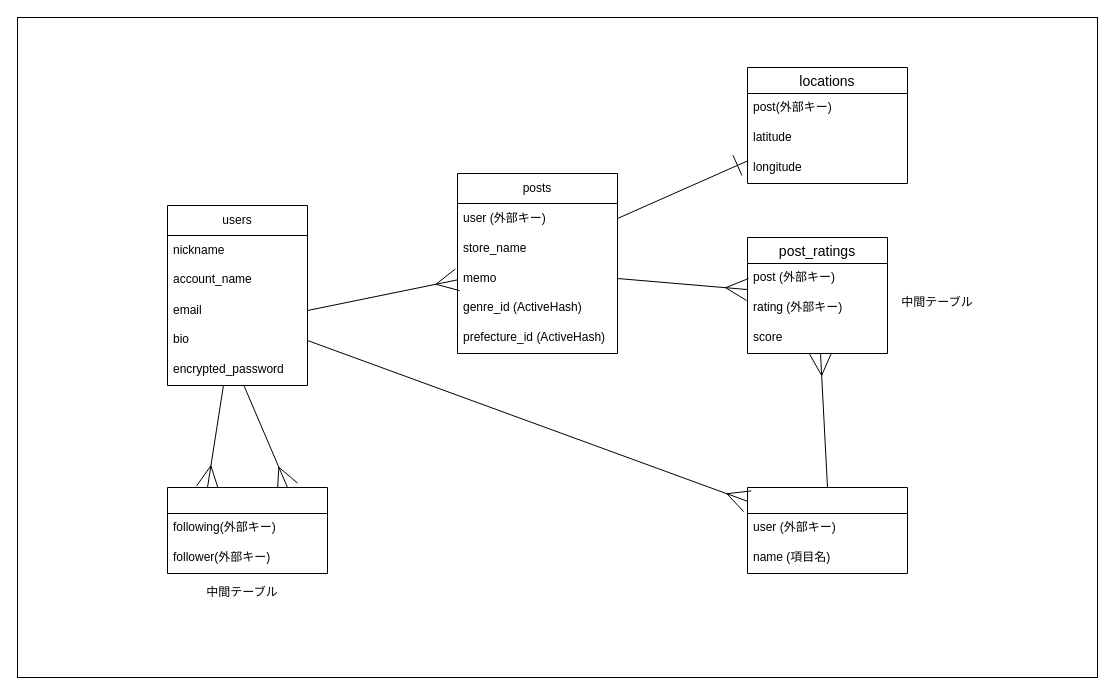
The diagram is 1115 pixels wide and 695 high, and some of its shapes have lost their labels. Each missing label, with the box of its shape:
ratings: (746, 486, 908, 574)
relationships: (166, 486, 328, 574)
